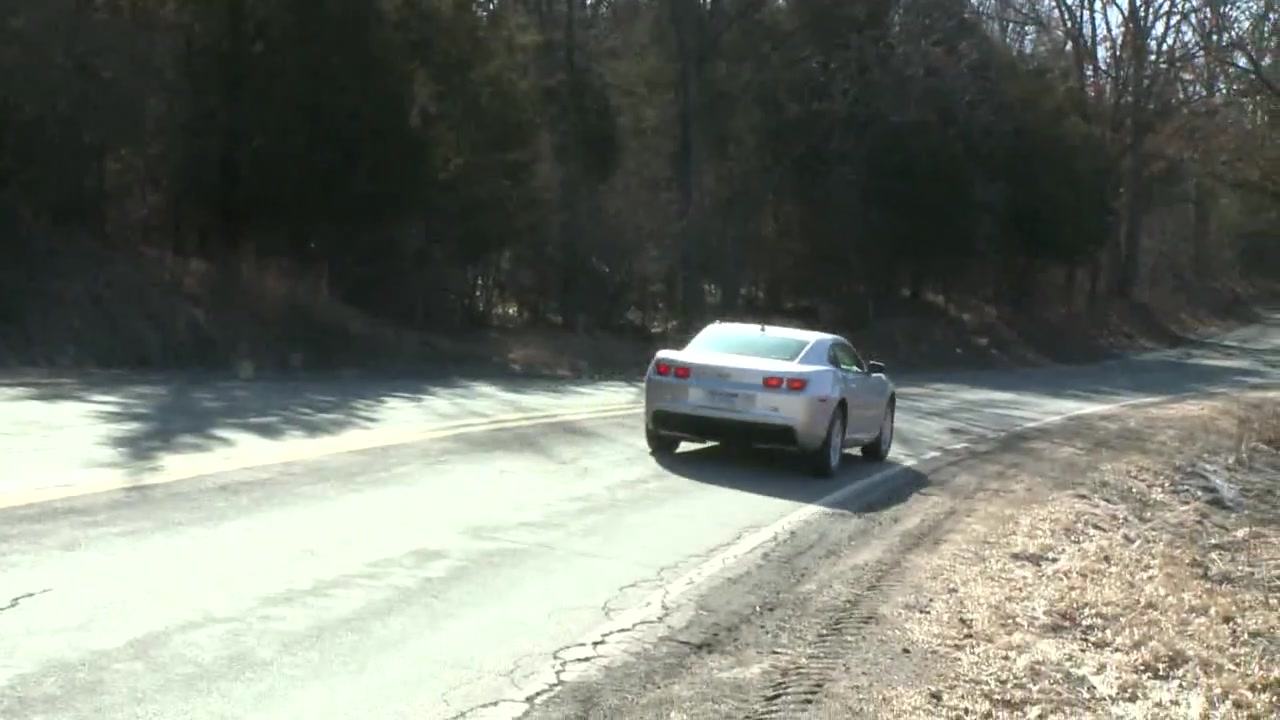car: (641, 317, 901, 479)
